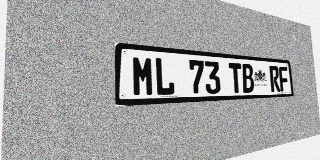3: (204, 61, 221, 94)
7: (188, 60, 206, 95)
B: (241, 64, 255, 93)
F: (279, 66, 289, 91)
L: (154, 57, 175, 96)
M: (132, 55, 155, 97)
R: (269, 66, 280, 92)
T: (229, 63, 243, 93)
